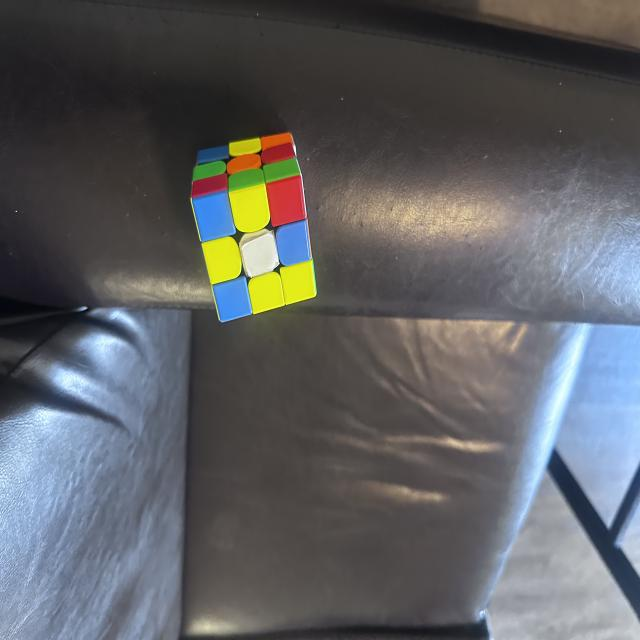sticker: (228, 173, 270, 235), (192, 188, 236, 243), (265, 173, 306, 229), (201, 236, 242, 286), (212, 275, 253, 324), (276, 218, 312, 268), (247, 270, 285, 315), (280, 259, 316, 306), (191, 172, 229, 199), (263, 158, 300, 184), (226, 153, 262, 175), (260, 142, 296, 164), (228, 136, 262, 158), (192, 160, 226, 182), (197, 144, 230, 166), (260, 132, 294, 153)
